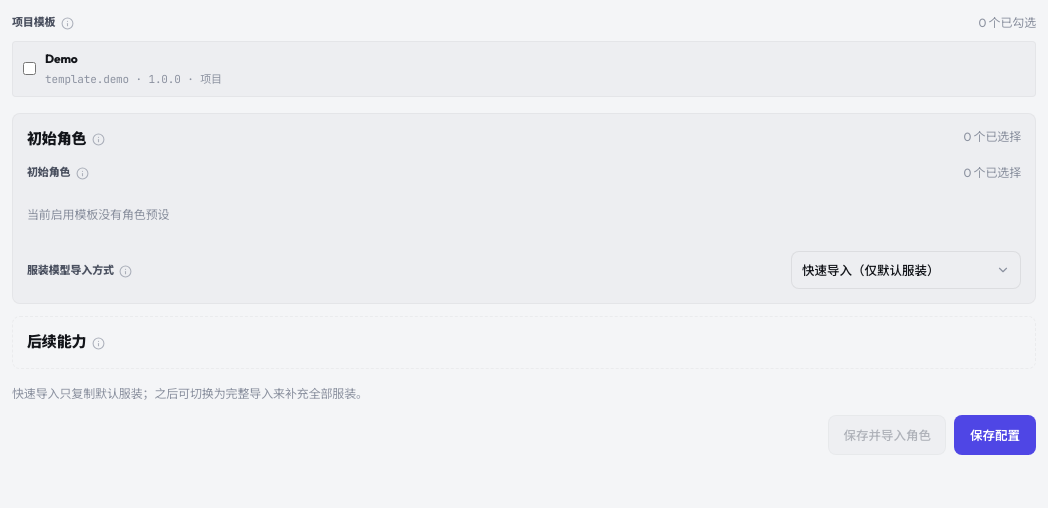
Test: template settings panel capability surface › reports save failures without losing the unchecked selection
The width and height of the screenshot is (1048, 508).
Click the button "保存配置".
click(995, 434)  # box left=954, top=414, right=1036, bottom=454
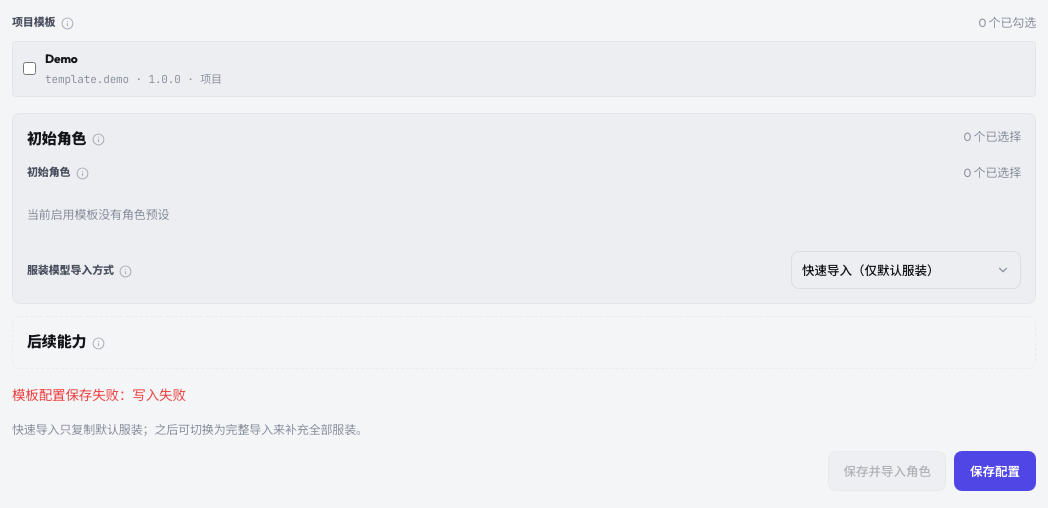
Check: the checkbox named "启用模板 Demo" is not checked, box left=23, top=62, right=36, bottom=75
Check: the message shows "写入失败", box left=12, top=386, right=186, bottom=404
